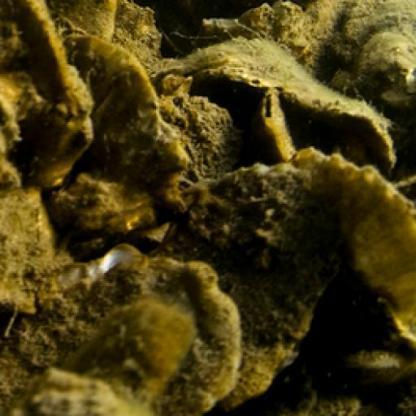3: (251, 88, 294, 162)
Oyster-Closed: (286, 151, 416, 391), (163, 39, 397, 167)
Oyster-Open: (153, 162, 338, 408), (0, 247, 242, 416), (44, 39, 187, 249), (282, 0, 416, 151), (0, 195, 96, 317)
